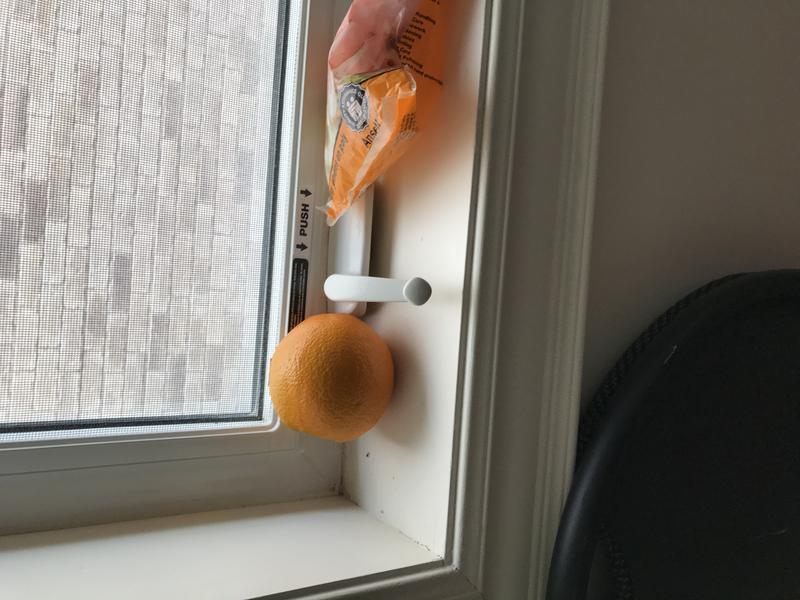orange: (258, 310, 405, 447)
